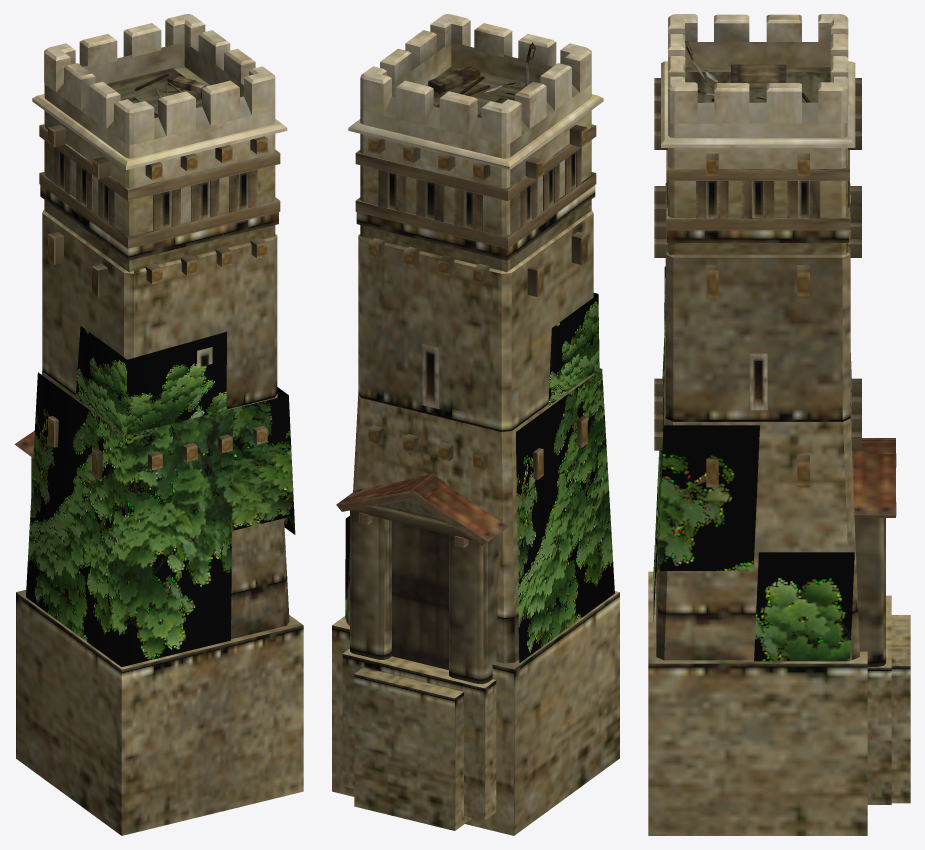
File: spart_tower.glb
3 renders of one model, left to right at view 1: azimuth 30°, elevation 25°; view 2: azimuth 150°, elevation 25°; view 3: azimuth 270°, elevation 25°, orthographic. The views are drawn at different scales.
Parts seen in each view (by area): view 1: spart_tower_part0, spart_tower_part2; view 2: spart_tower_part0, spart_tower_part2; view 3: spart_tower_part0, spart_tower_part2.
Part boxes in pixels (x1,y1,x2,y2): spart_tower_part0: (14,14,303,835); spart_tower_part2: (26,326,295,667); spart_tower_part0: (332,14,619,835); spart_tower_part2: (345,293,614,662); spart_tower_part0: (648,14,910,835); spart_tower_part2: (653,266,854,661).
Size of the model in its own units: 1.83 by 6.84 by 2.2.
Materials: 3 (3 with a texture image).
